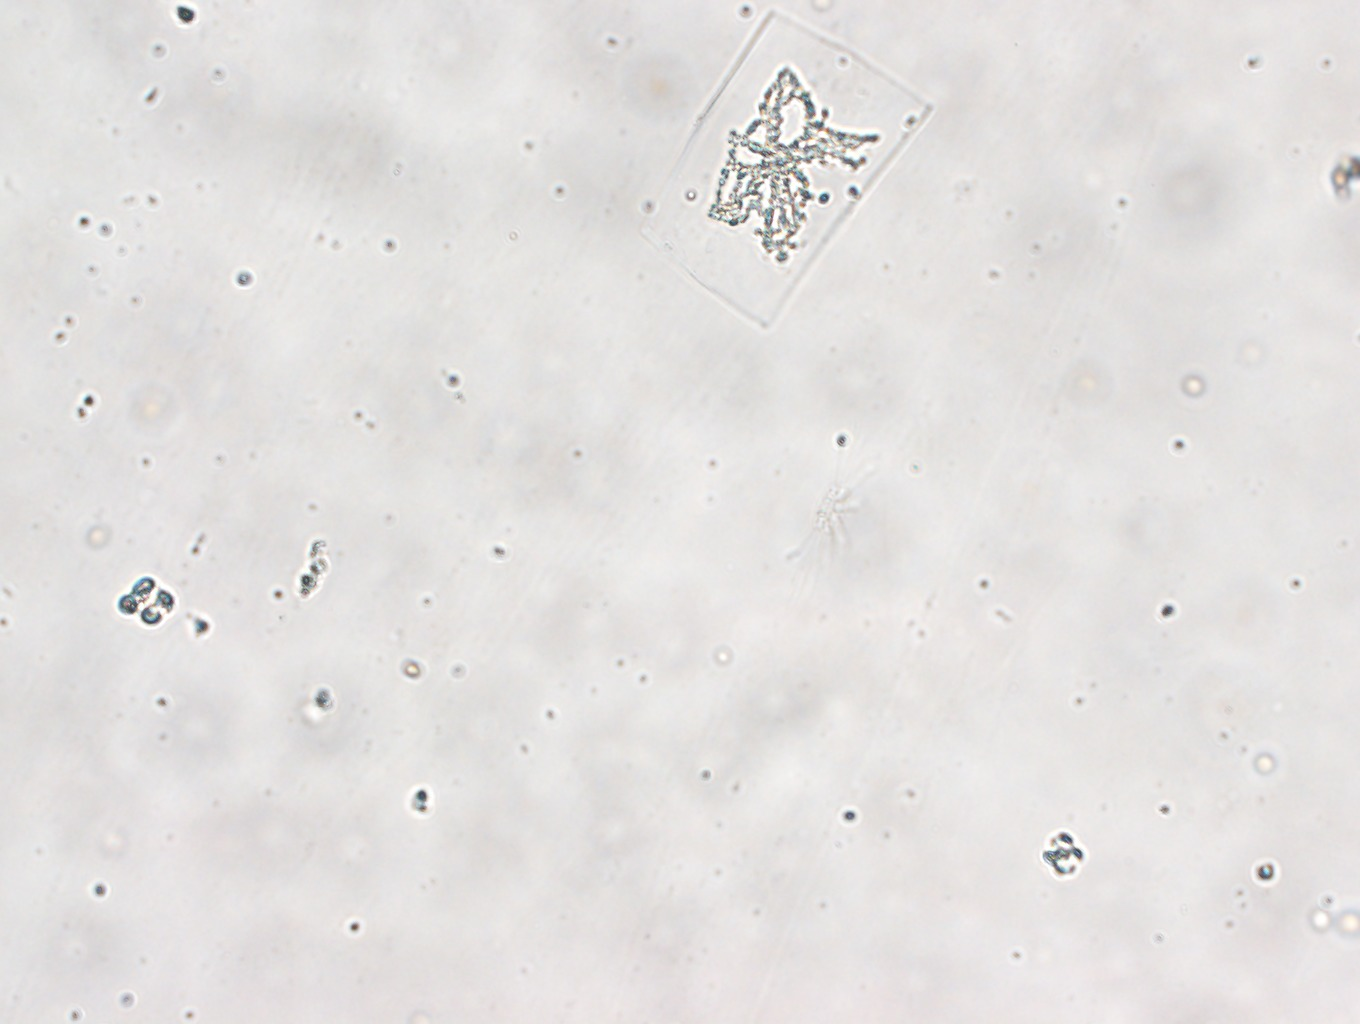helicotheca: (640, 11, 936, 329)
